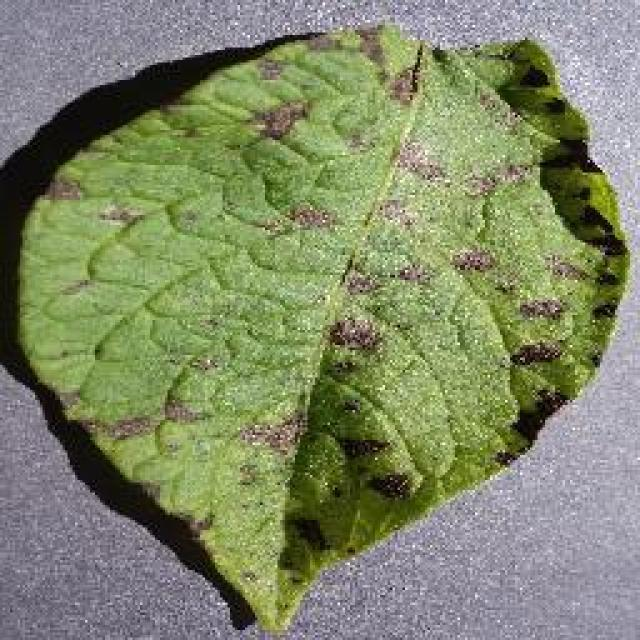Potato___Early_blight: (17, 15, 632, 638)
